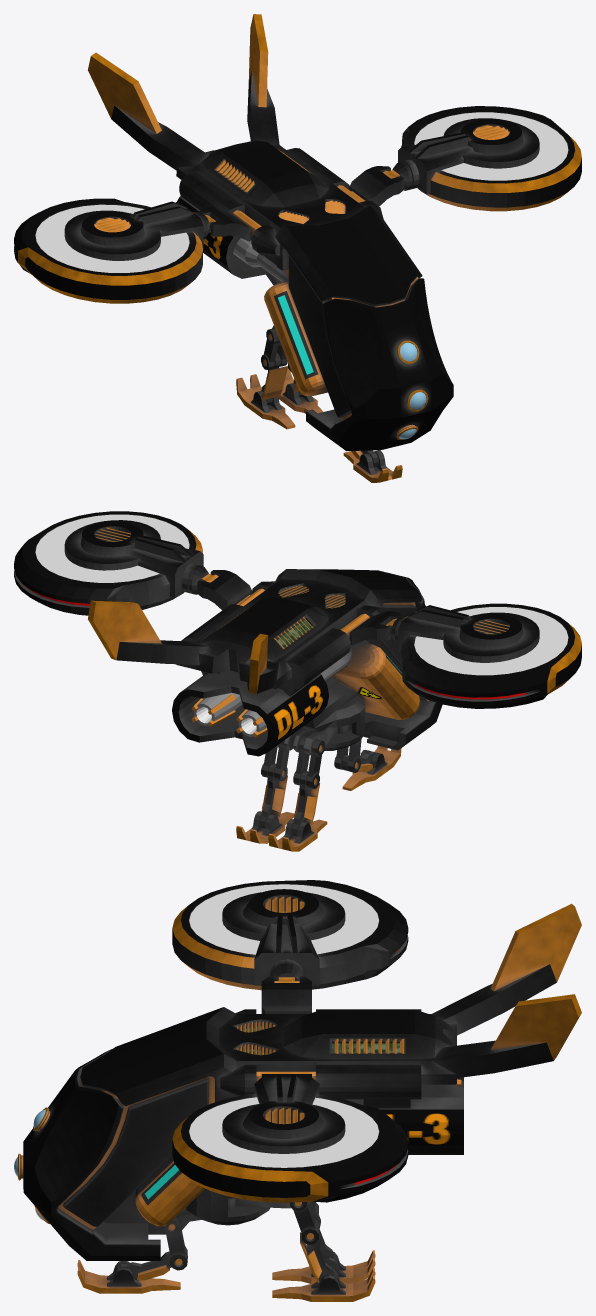
The model's file is OrbitRush_DroneDL3.fbx.
3 renders of one model, top to bottom at view 1: azimuth 30°, elevation 25°; view 2: azimuth 150°, elevation 25°; view 3: azimuth 270°, elevation 25°, orthographic. The views are drawn at different scales.
Parts seen in each view (by area): view 1: Drone_Body, Rotor_R, Rotor_L; view 2: Drone_Body, Rotor_R, Rotor_L; view 3: Drone_Body, Rotor_L, Rotor_R.
Part boxes in pixels (x1=…): Drone_Body: x1=88, y1=14, x2=453, y2=482; Rotor_R: x1=14, y1=198, x2=261, y2=303; Rotor_L: x1=337, y1=106, x2=581, y2=211; Drone_Body: x1=88, y1=569, x2=442, y2=851; Rotor_R: x1=340, y1=603, x2=581, y2=708; Rotor_L: x1=14, y1=511, x2=265, y2=615; Drone_Body: x1=14, y1=903, x2=581, y2=1301; Rotor_L: x1=172, y1=1071, x2=408, y2=1202; Rotor_R: x1=172, y1=880, x2=408, y2=1013.
Bounding box in the file's own units: 210 × 111 × 170.
8 materials, 1 textured.
